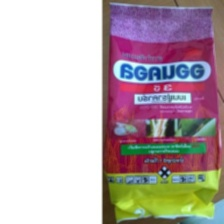insecticide: (101, 0, 224, 223)
